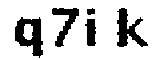7: (48, 5, 78, 51)
i: (84, 6, 102, 50)
k: (112, 5, 149, 54)
q: (11, 16, 43, 60)
